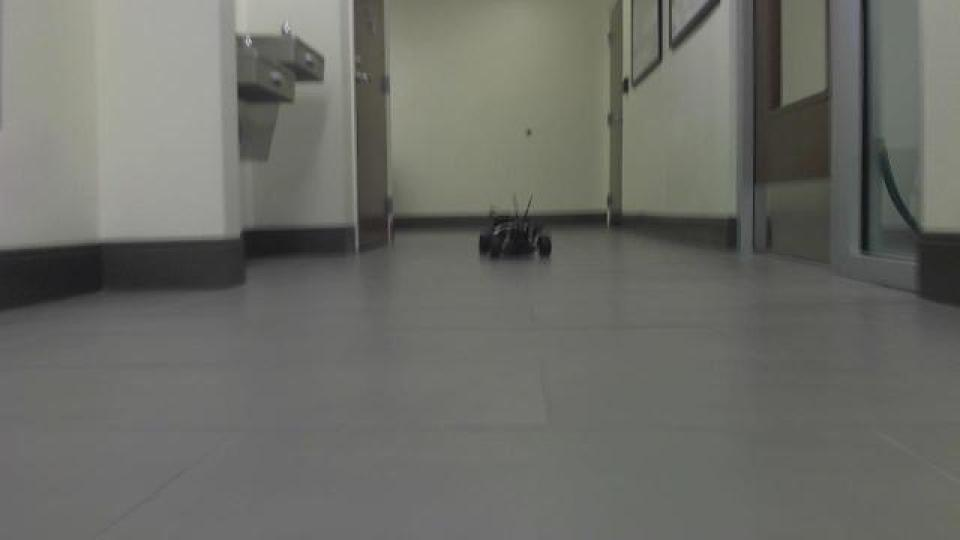car: (474, 190, 554, 264)
